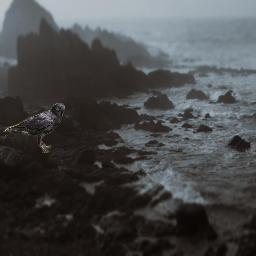Crow: (2, 103, 65, 153)
